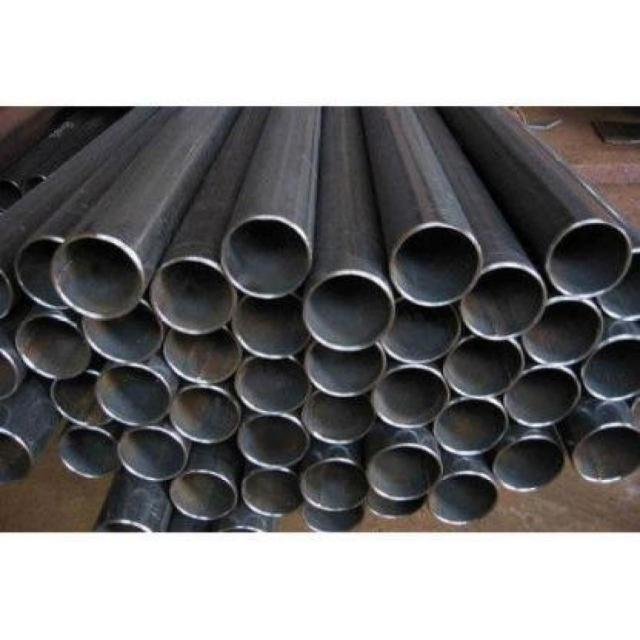pipe: (50, 236, 143, 321), (221, 216, 311, 299), (391, 224, 482, 306), (303, 273, 394, 352), (545, 219, 632, 298), (461, 265, 548, 341), (150, 259, 234, 335), (524, 299, 604, 366), (232, 294, 312, 359), (380, 299, 460, 364), (442, 336, 525, 398), (372, 365, 450, 428), (83, 302, 164, 362), (16, 314, 90, 379), (95, 365, 172, 427), (304, 342, 386, 399), (13, 237, 76, 311), (504, 367, 581, 427), (434, 397, 510, 455), (164, 329, 244, 384), (235, 356, 312, 413), (569, 422, 639, 484), (368, 445, 443, 502), (171, 385, 240, 445), (302, 391, 376, 445), (238, 414, 311, 468), (495, 437, 566, 492), (118, 427, 189, 481), (429, 472, 500, 526), (582, 337, 639, 404), (300, 458, 368, 511), (50, 370, 113, 427), (171, 471, 238, 520), (58, 428, 120, 478), (241, 469, 303, 518), (0, 422, 34, 490)
